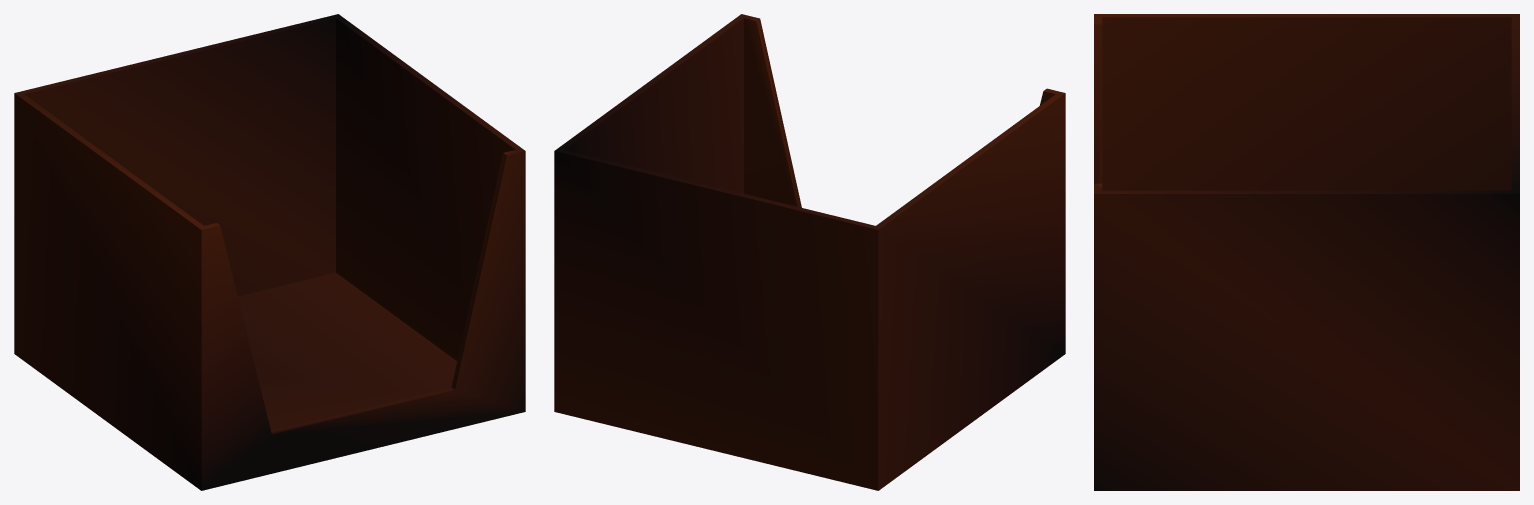
Rendered from PlateHolder.dae.
The picture shows the model from 3 angles, left to right: view 1: azimuth 30°, elevation 25°; view 2: azimuth 150°, elevation 25°; view 3: azimuth 270°, elevation 25°; orthographic projection. The views are drawn at different scales.
Visible parts, largest first — view 1: PlateHolder v1; view 2: PlateHolder v1; view 3: PlateHolder v1.
Part boxes in pixels (<box>): PlateHolder v1: <box>14,14,525,490</box>; PlateHolder v1: <box>554,14,1065,490</box>; PlateHolder v1: <box>1094,14,1519,490</box>.
Bounding box in the file's own units: 0.26 × 0.26 × 0.2.
